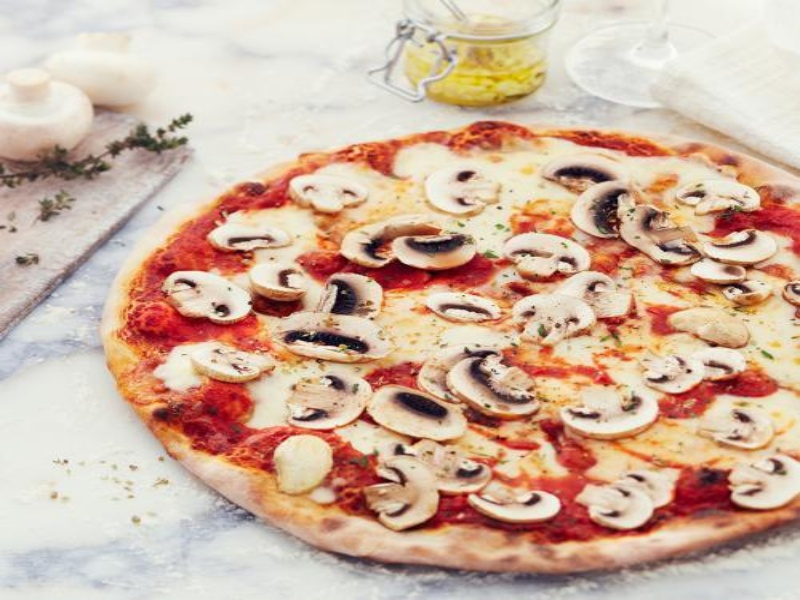champignon: (271, 307, 398, 370), (364, 382, 473, 446), (556, 382, 662, 447), (361, 456, 442, 538), (507, 288, 604, 356), (157, 266, 262, 328), (616, 204, 702, 278), (420, 163, 513, 226), (723, 447, 800, 519), (286, 371, 374, 432), (567, 178, 643, 246), (572, 476, 657, 535), (498, 232, 593, 284), (536, 147, 635, 196), (280, 168, 375, 219), (675, 171, 766, 223), (462, 485, 567, 529), (185, 337, 264, 391), (392, 230, 484, 276), (628, 345, 709, 396), (700, 399, 778, 451), (419, 287, 505, 330), (704, 227, 781, 273), (210, 218, 294, 255)
